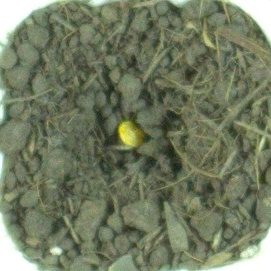chilli seed: (116, 118, 149, 150)
